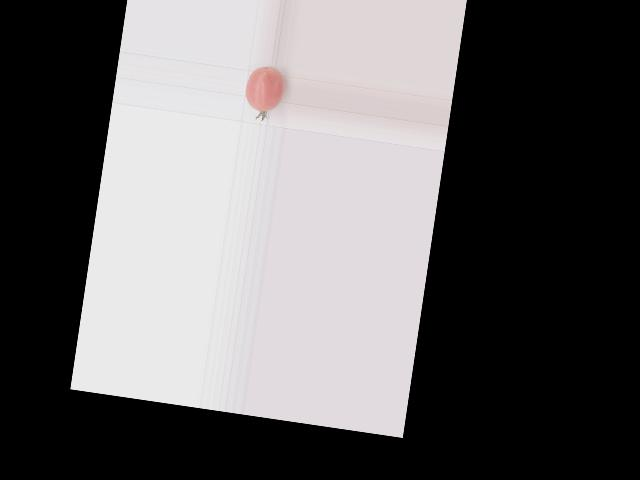tomato: (242, 63, 286, 113)
